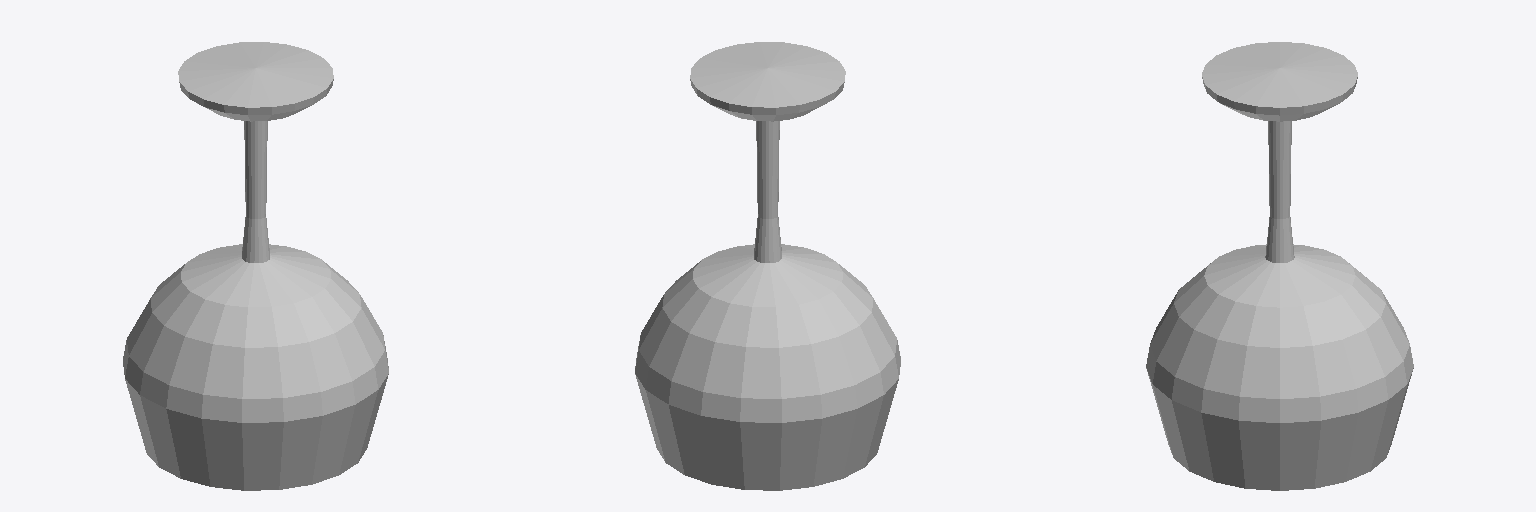
The model's file is wine glass.obj.
3 renders of one model, left to right at view 1: azimuth 30°, elevation 25°; view 2: azimuth 150°, elevation 25°; view 3: azimuth 270°, elevation 25°, orthographic.
Visible parts, largest first — view 1: pCylinder1; view 2: pCylinder1; view 3: pCylinder1.
Part boxes in pixels (bbox=[...]): pCylinder1: bbox=[123, 42, 388, 490]; pCylinder1: bbox=[635, 42, 900, 490]; pCylinder1: bbox=[1146, 42, 1413, 490].
Size of the model in its own units: 0.7928 by 1.23 by 0.7928.